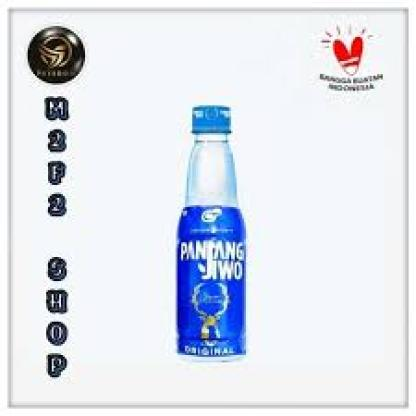Glass Bottle: (170, 100, 250, 372)
